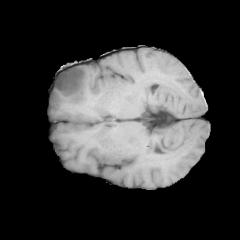glioma: (54, 66, 90, 105)
